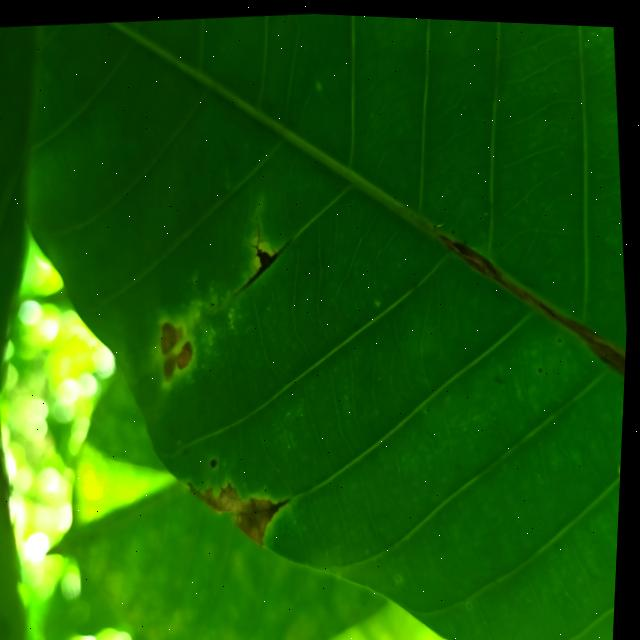Colletotrichum: (213, 456, 221, 465)
Corynespora: (234, 211, 298, 292)
Leaf-Blight: (189, 472, 284, 548), (159, 320, 200, 382)
